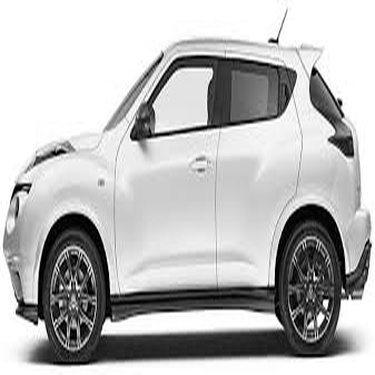car: (8, 13, 369, 366)
